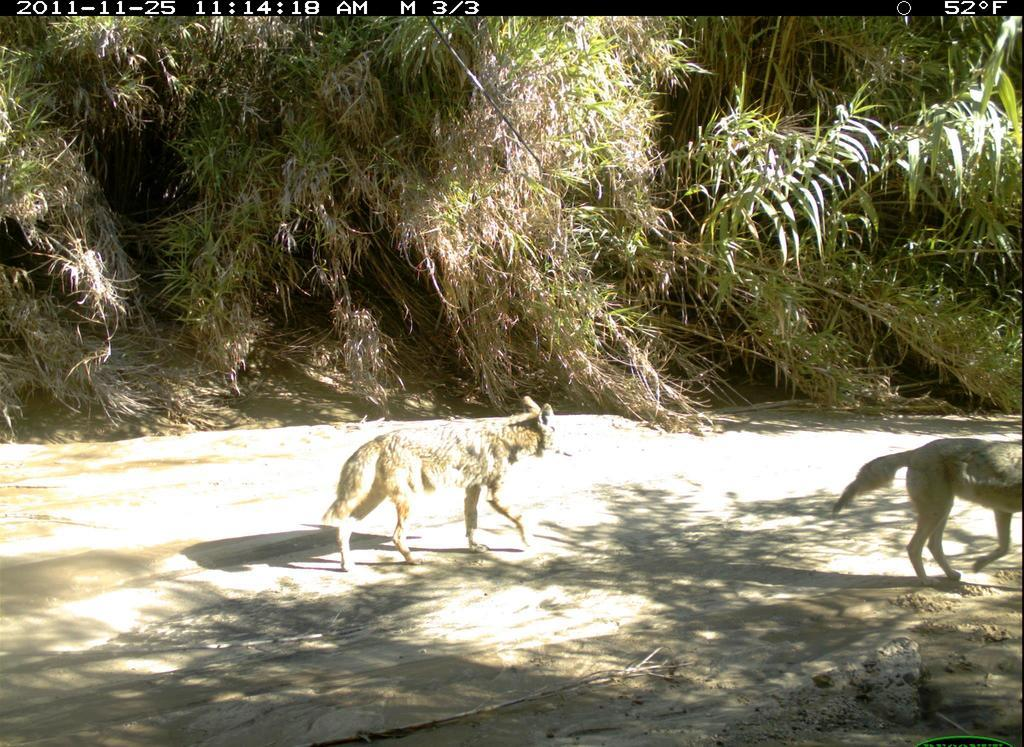coyote: (292, 374, 609, 596), (801, 364, 1022, 600)
